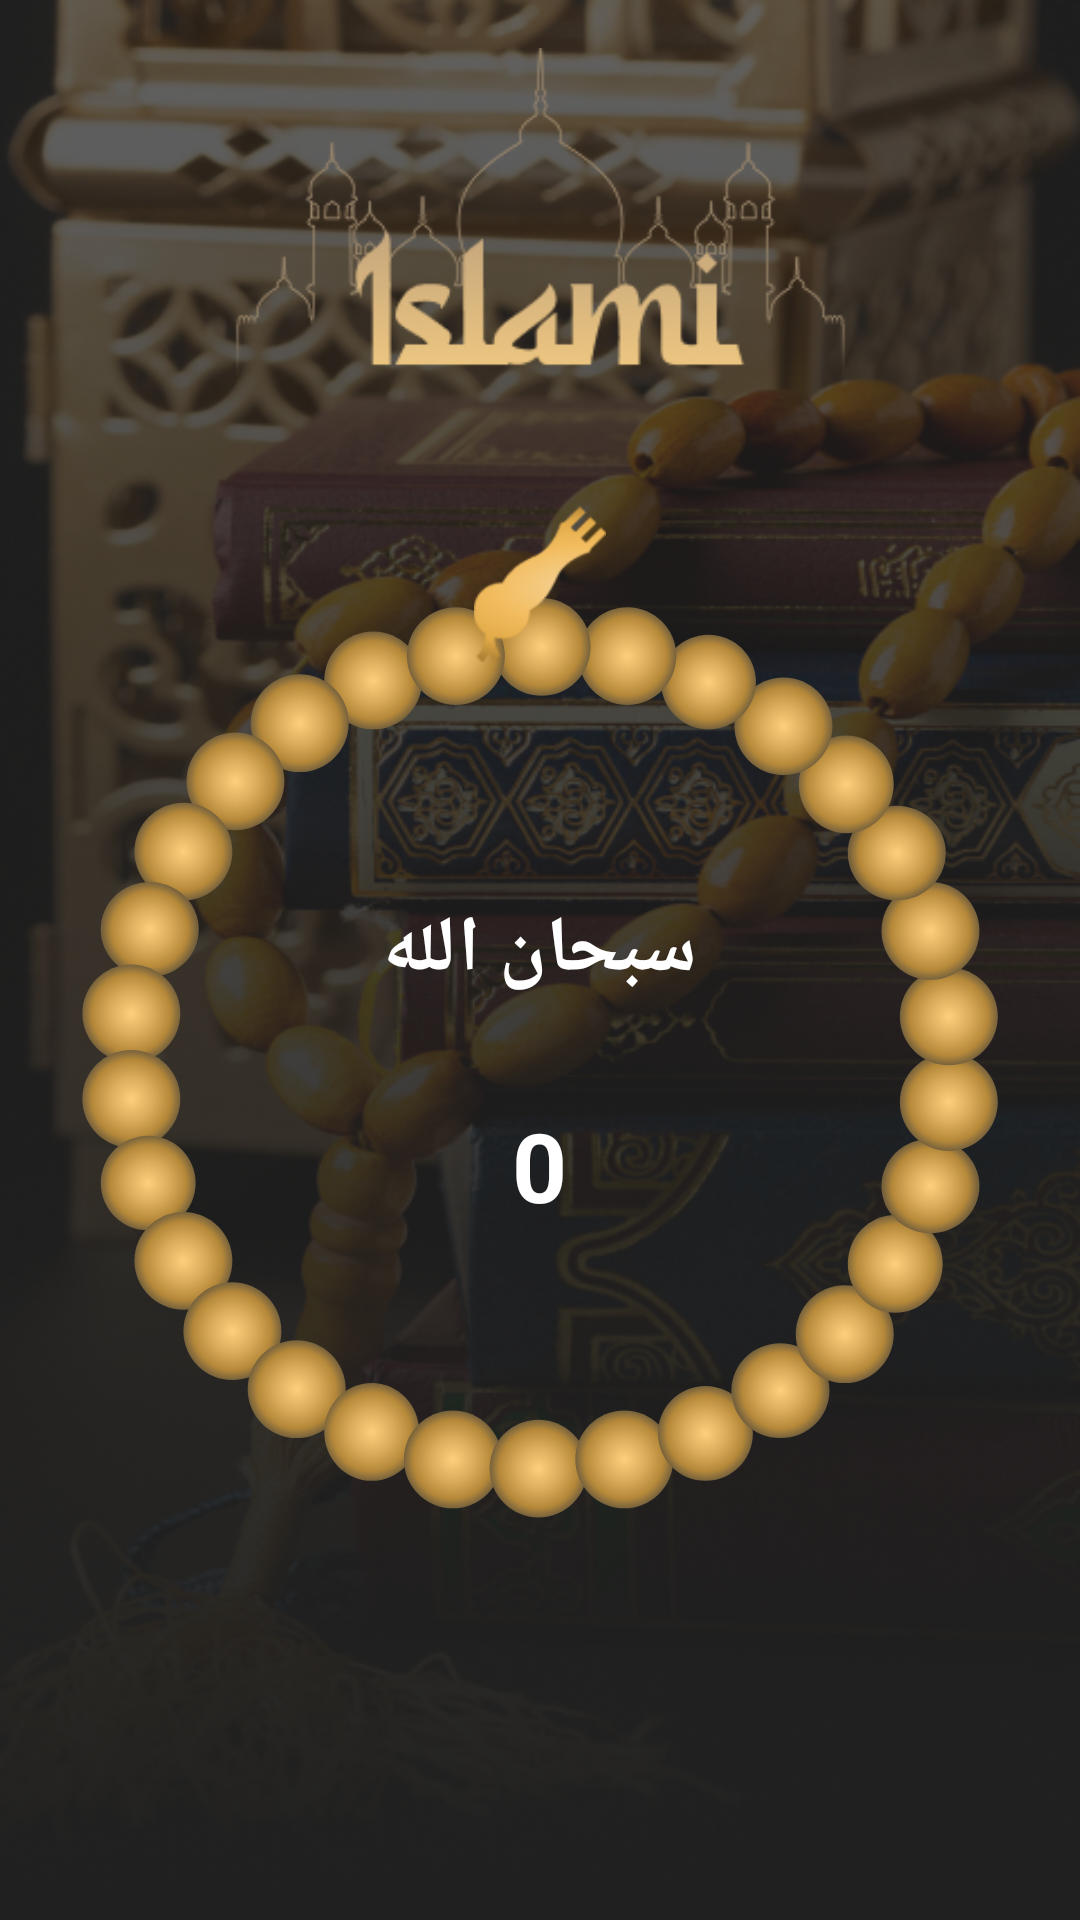

Where to tap for icons on this 1080x1920 app screen, as (x,y):
sebha hand: (540,584)
